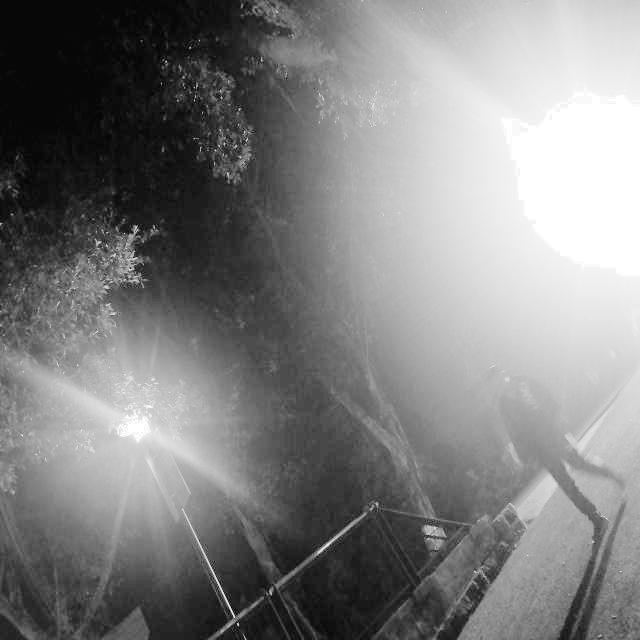Light: (489, 0, 640, 303), (110, 365, 235, 622)
Tree: (278, 189, 454, 552)
